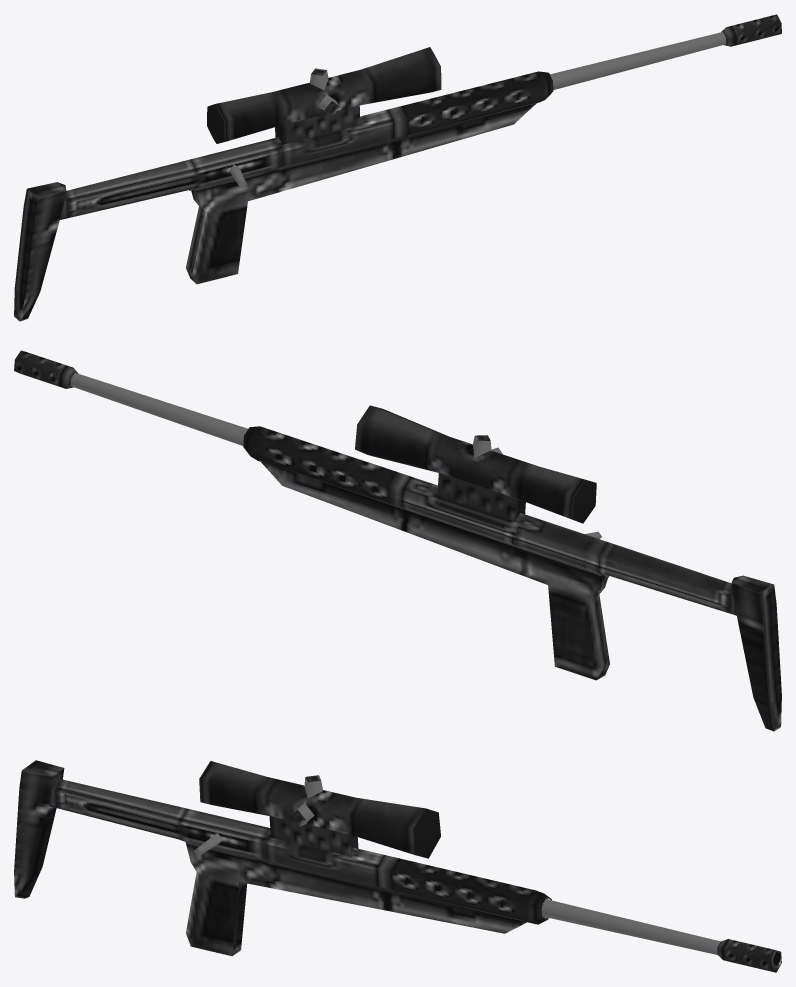
Rendered from p_sniper.glb.
3 renders of one model, top to bottom at view 1: azimuth 30°, elevation 25°; view 2: azimuth 150°, elevation 25°; view 3: azimuth 330°, elevation 25°, orthographic. The views are drawn at different scales.
Parts seen in each view (by area): view 1: p_sniper; view 2: p_sniper; view 3: p_sniper.
Boxes of the visible parts, x1,y1,x2,y2 form: p_sniper: [14, 14, 781, 321]; p_sniper: [14, 350, 781, 731]; p_sniper: [14, 760, 781, 972].
Size of the model in its own units: 40.28 by 9.99 by 3.89.
3 materials, 3 textured.
